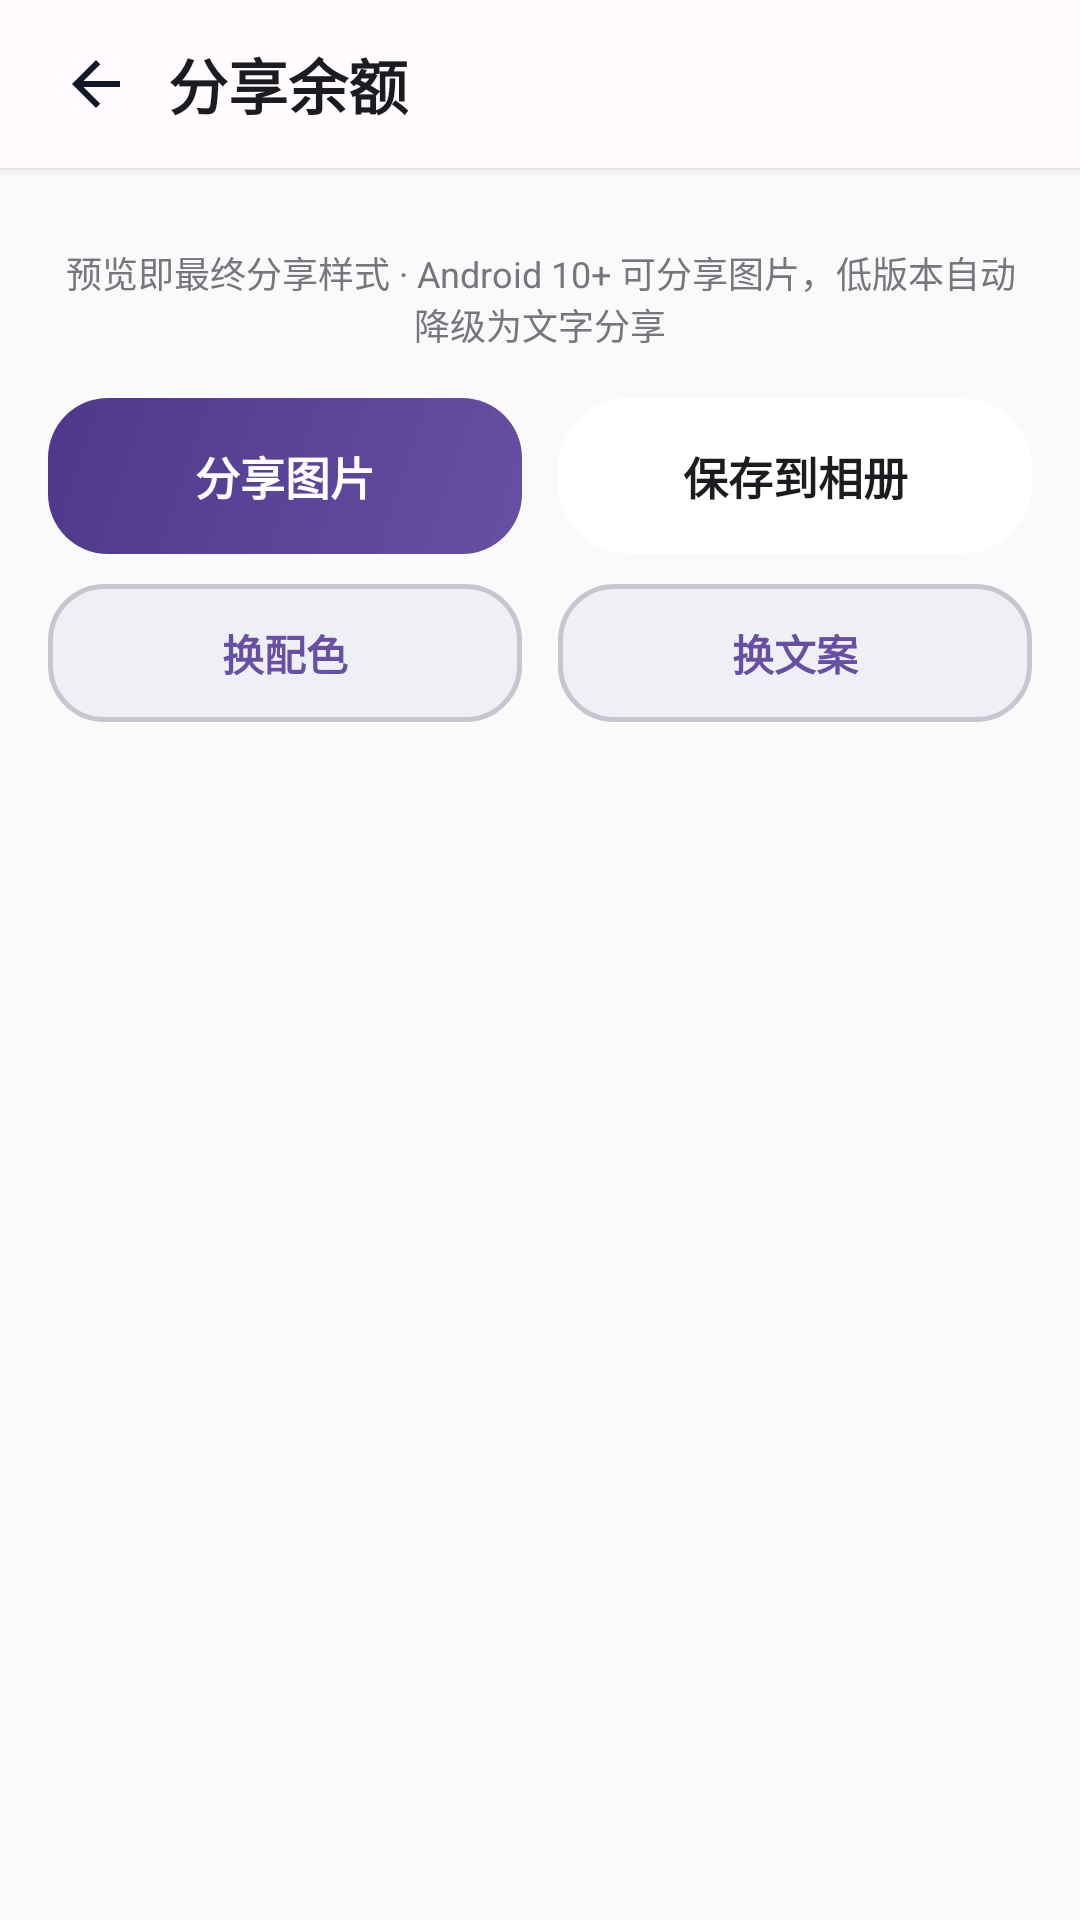

Locate icon controls on the screen. Image size 1080×1920, boxes as (x1, y1, x2, y2).
返回: (72, 60, 120, 108)
